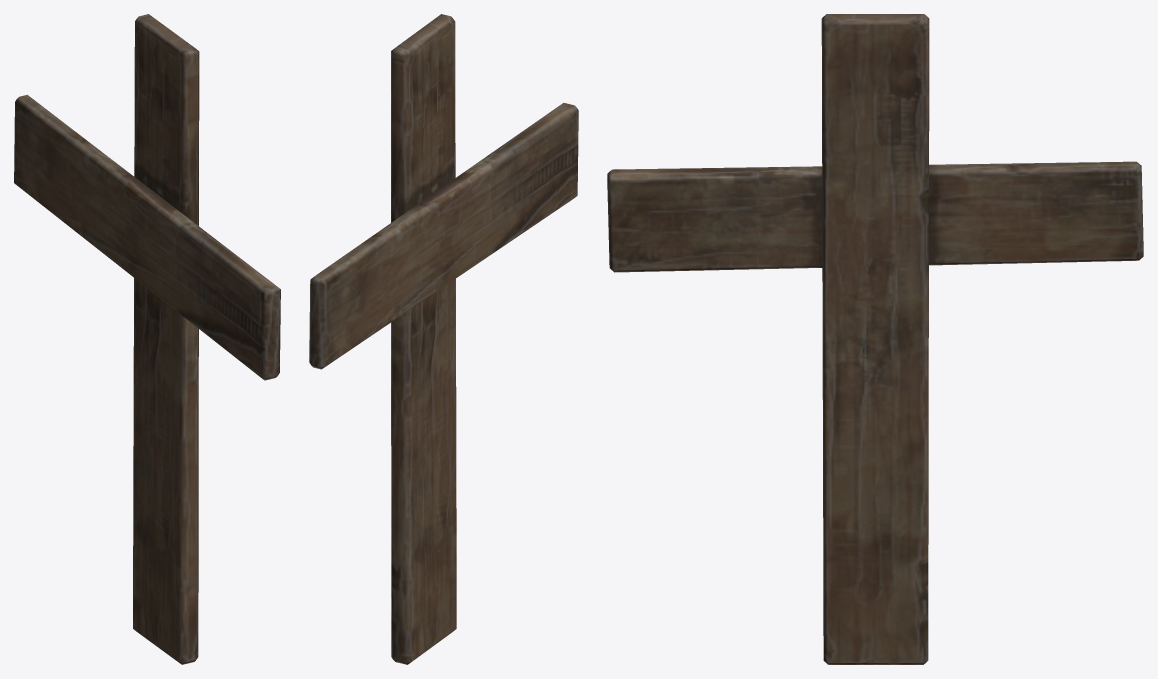
Rendered from SM_TombsA2_002.fbx.
3 renders of one model, left to right at view 1: azimuth 30°, elevation 25°; view 2: azimuth 150°, elevation 25°; view 3: azimuth 270°, elevation 25°, orthographic. The views are drawn at different scales.
Visible parts, largest first — view 1: SM_TombsA2_002_LOD0; view 2: SM_TombsA2_002_LOD0; view 3: SM_TombsA2_002_LOD0.
Part boxes in pixels (bbox=[...]): SM_TombsA2_002_LOD0: bbox=[14, 14, 280, 664]; SM_TombsA2_002_LOD0: bbox=[309, 14, 578, 664]; SM_TombsA2_002_LOD0: bbox=[607, 14, 1143, 664].
Bounding box in the file's own units: 3.66 × 41.11 × 54.61.
Materials: 1 (1 with a texture image).
